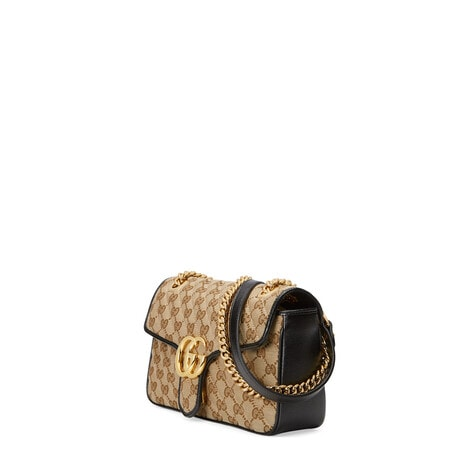Gucci: (134, 259, 332, 438), (156, 289, 210, 334), (173, 334, 213, 380)
